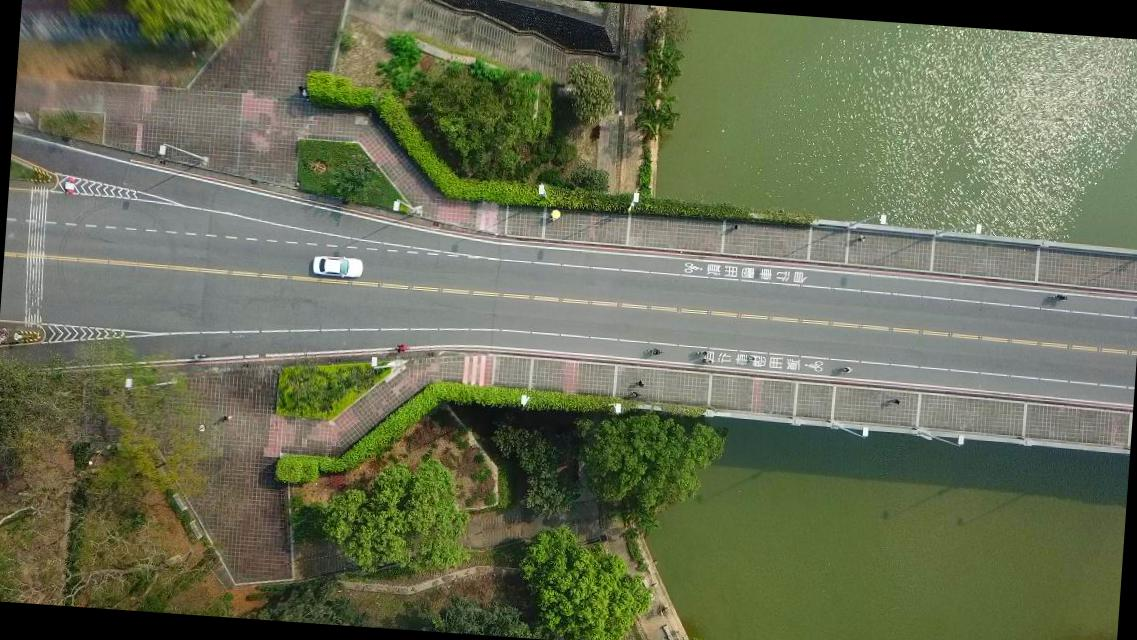vehicle: (310, 254, 362, 280)
